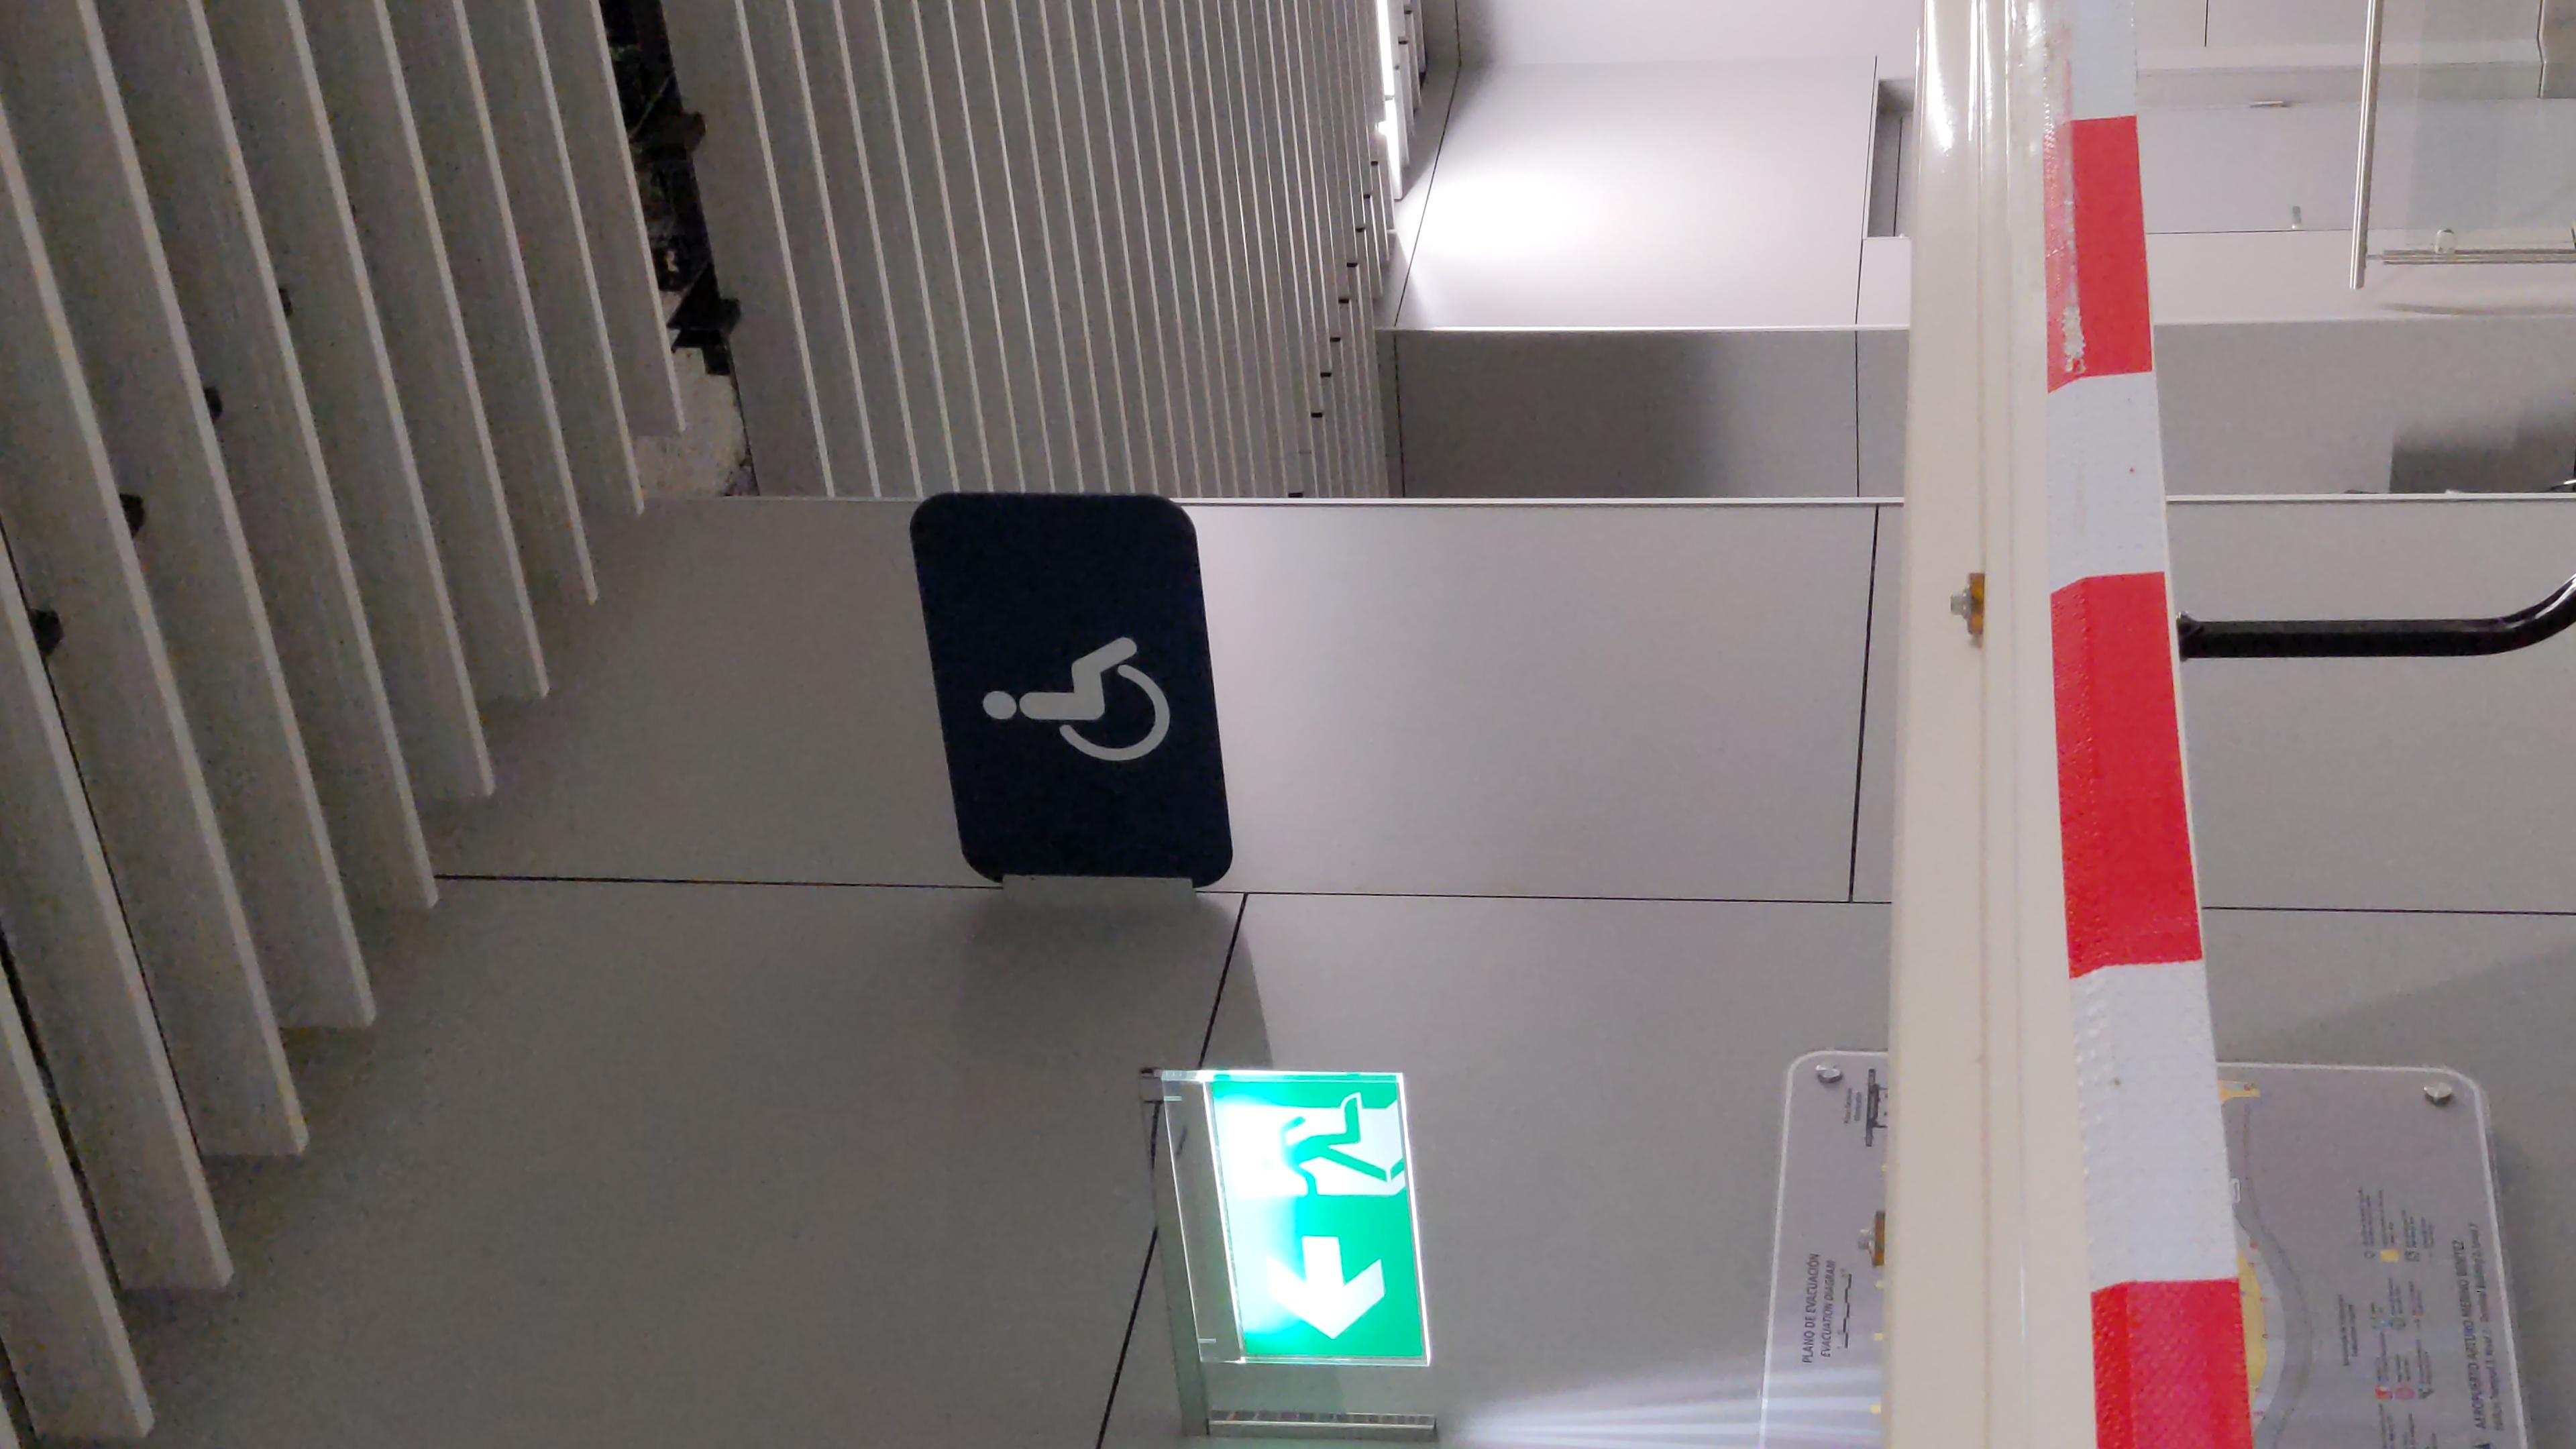emergency exit: (430, 683, 637, 793)
emergency left arrow: (191, 709, 391, 780)
handicapped symbol: (1214, 552, 1447, 660)
